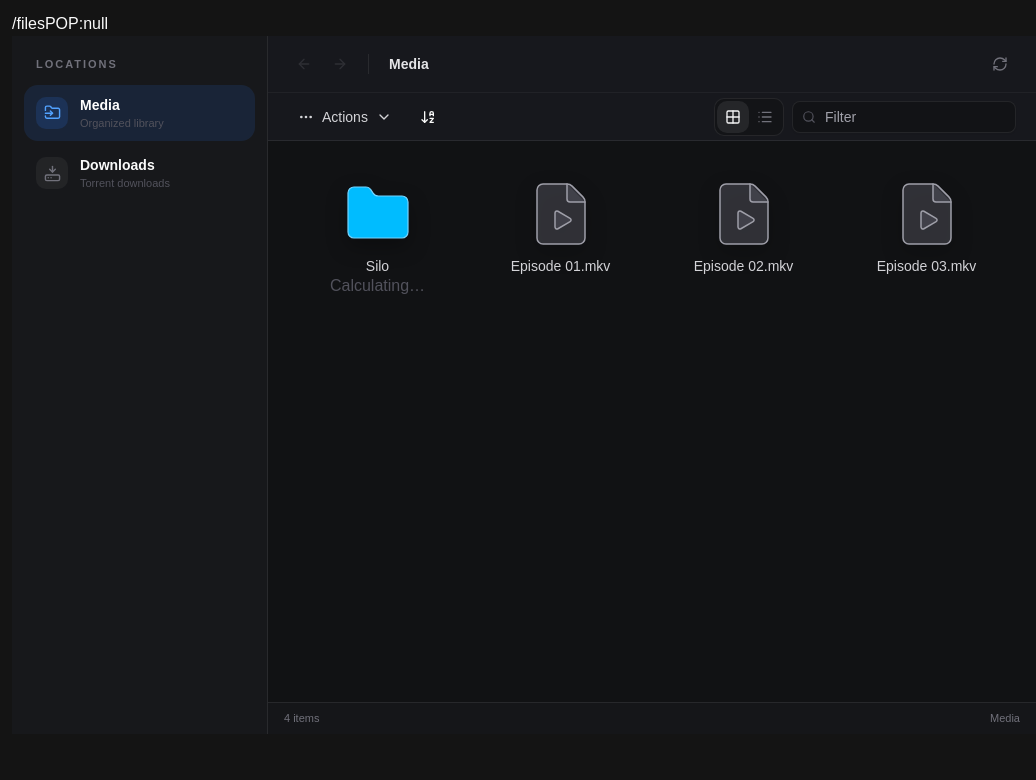
FileManager › shows selected count and total size in status bar
Click the button with aria-label "Episode 01.mkv": [560, 238] box [475,165,646,311]
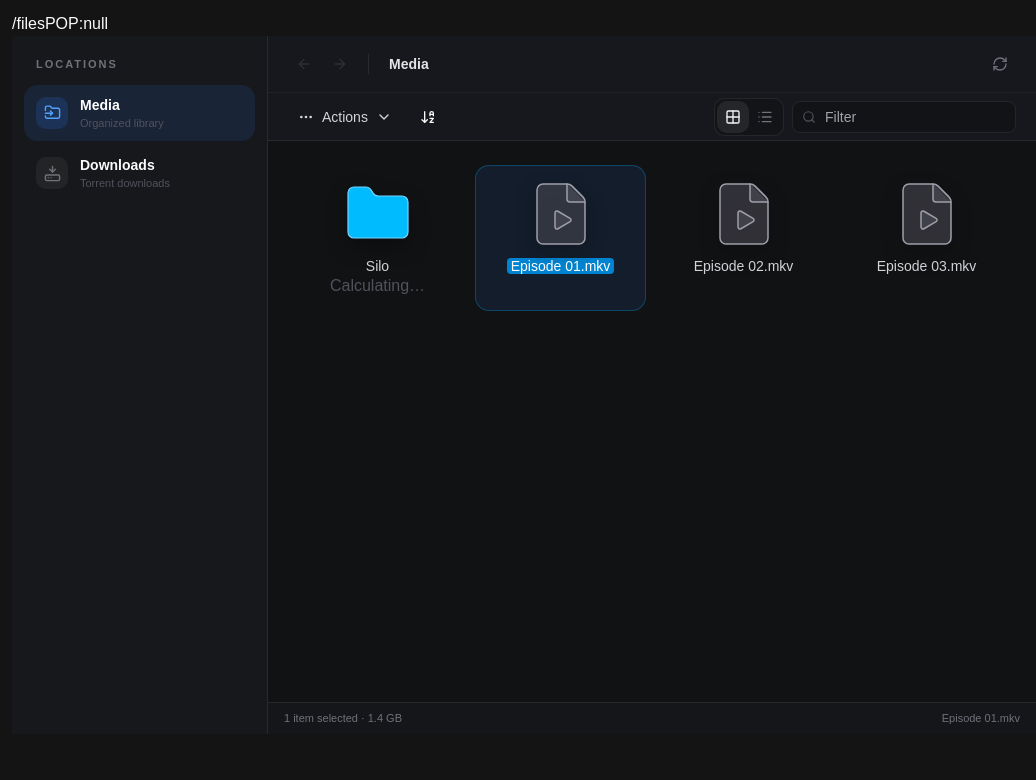
Expected: the text with test id "file-manager-status" reads "1 item selected · 1.4 GB", [284,712,402,724]
Click the button with aria-label "Episode 02.mkv": [744, 238] box [658,165,829,311]
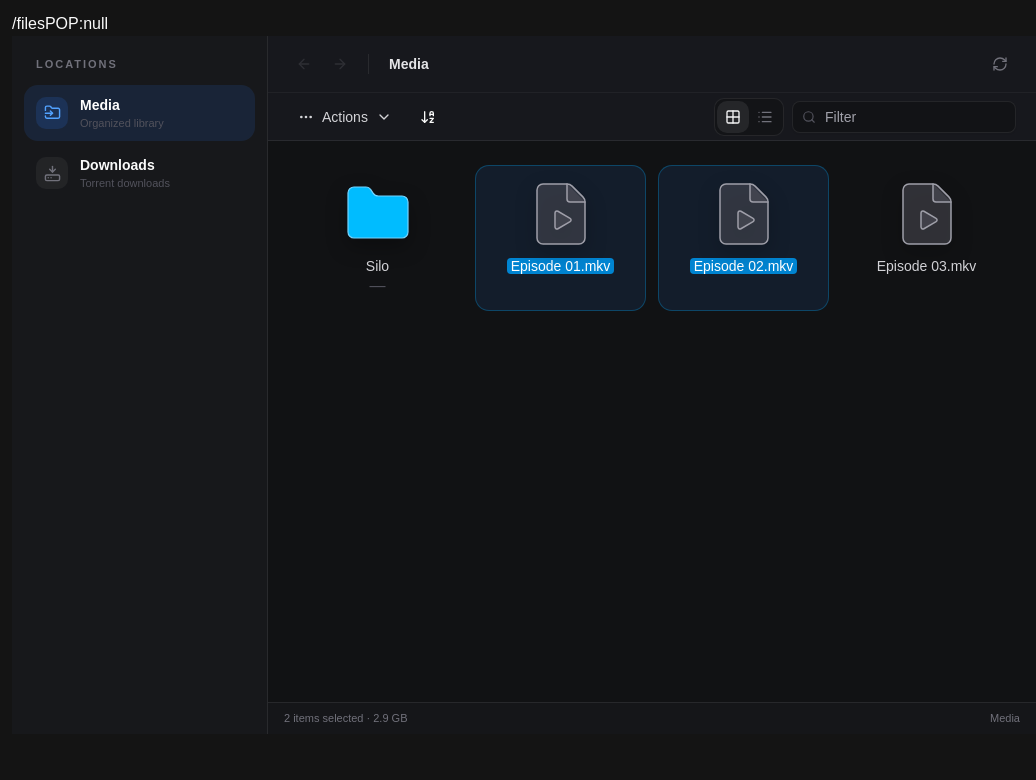
Expected: the text with test id "file-manager-status" reads "2 items selected · 2.9 GB", [284,712,408,724]
